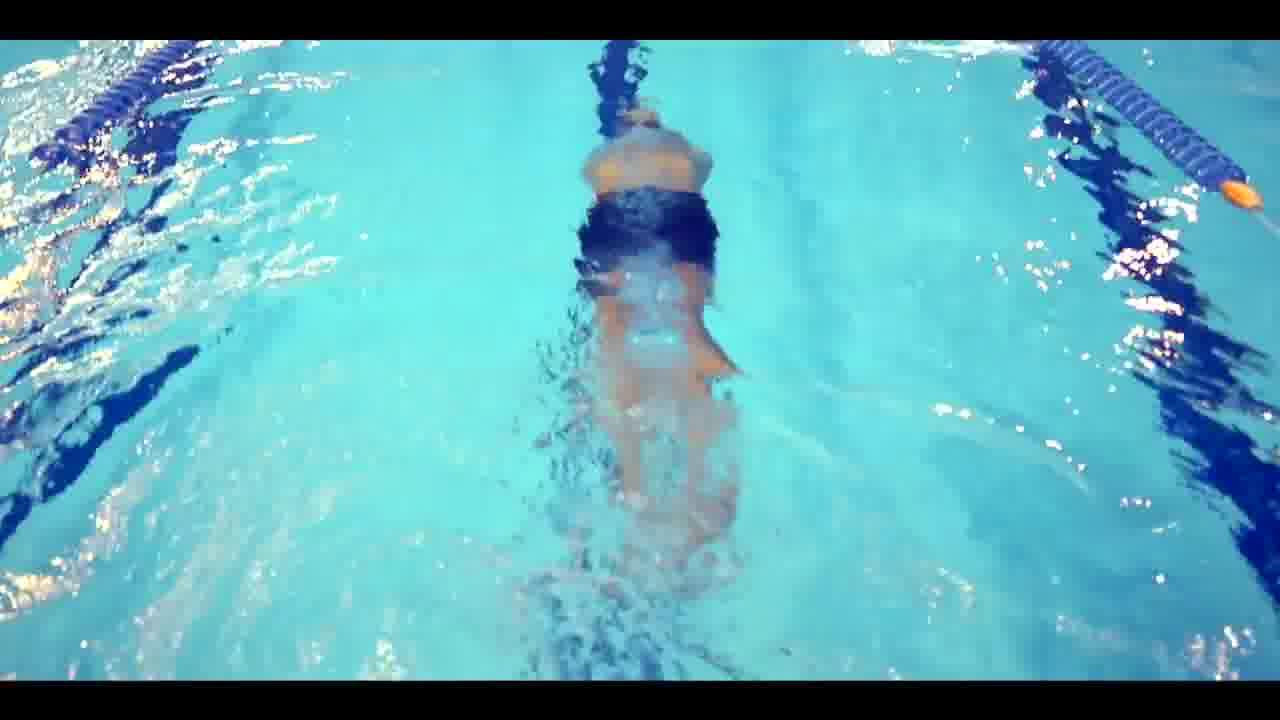swimmer: (569, 100, 745, 563)
